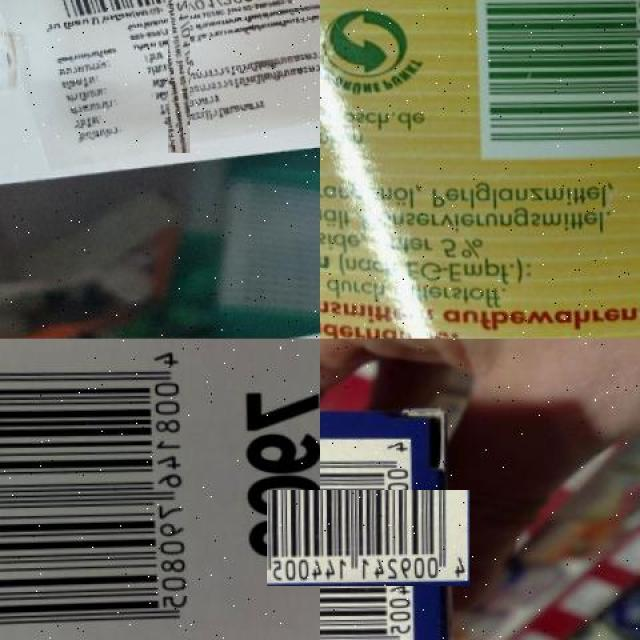Barcode: (0, 338, 205, 640), (466, 0, 640, 156), (293, 463, 443, 613), (102, 0, 254, 87)
